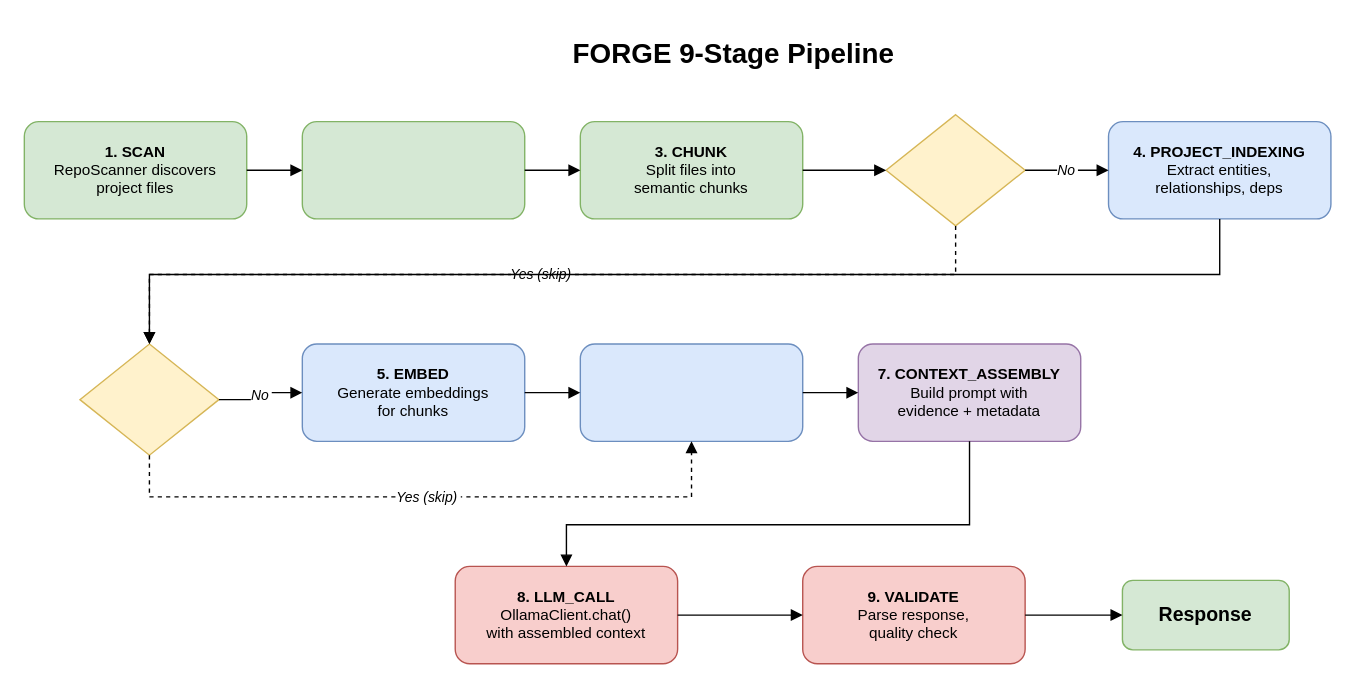
Image size: 1355x688. Some labels were removed from this diagram. The shapes that lost their labels are listed below. From the top down, each one's box as (x1, y1, x2, y2) in pixels, then its label:
(301, 120, 525, 219): 2. MODULE_DISCOVERY Identify project modules and boundaries
(885, 113, 1025, 226): Index exists?
(79, 343, 219, 455): Simple task?
(579, 343, 803, 441): 6. EVIDENCE EvidenceCollector gathers relevant chunks
